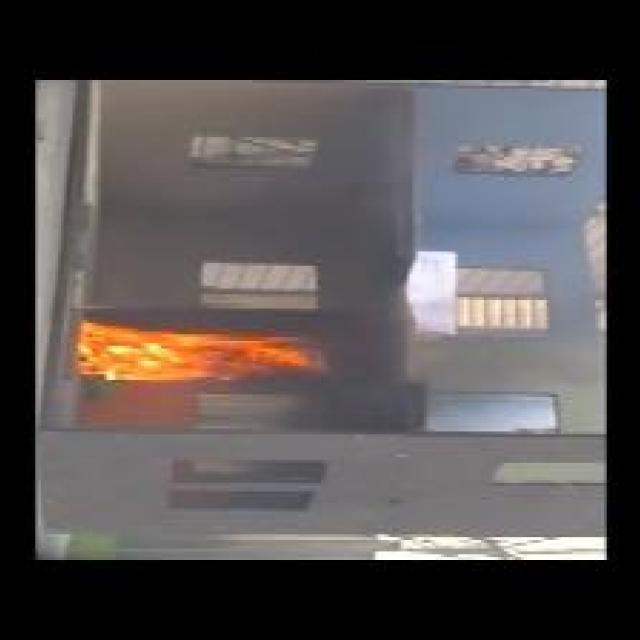Fire: (77, 322, 323, 382)
